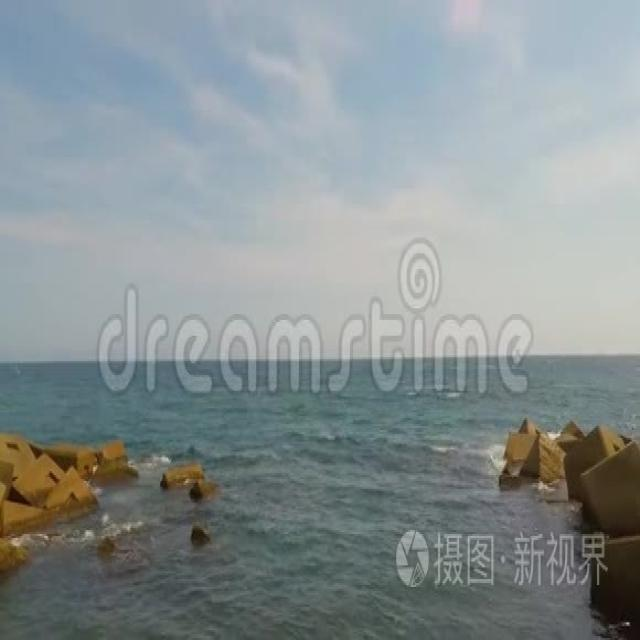reef: (15, 392, 221, 540), (480, 392, 608, 518)
